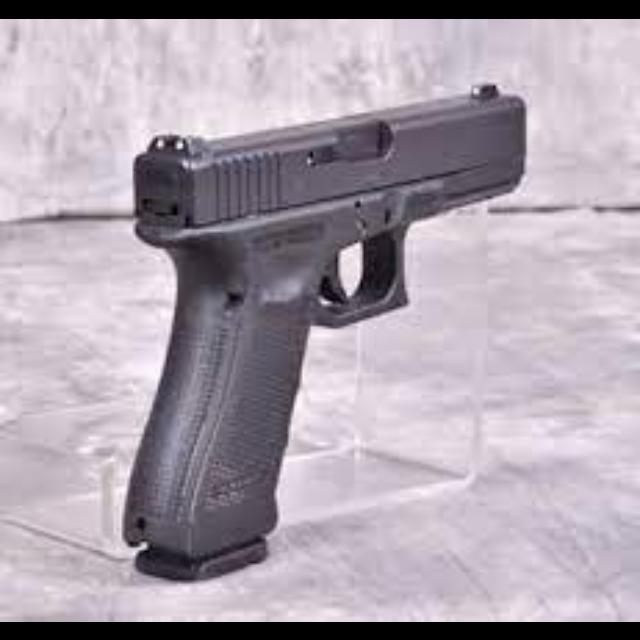handgun: (111, 78, 536, 590)
